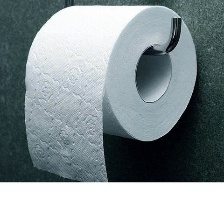tissue: (16, 0, 204, 182)
